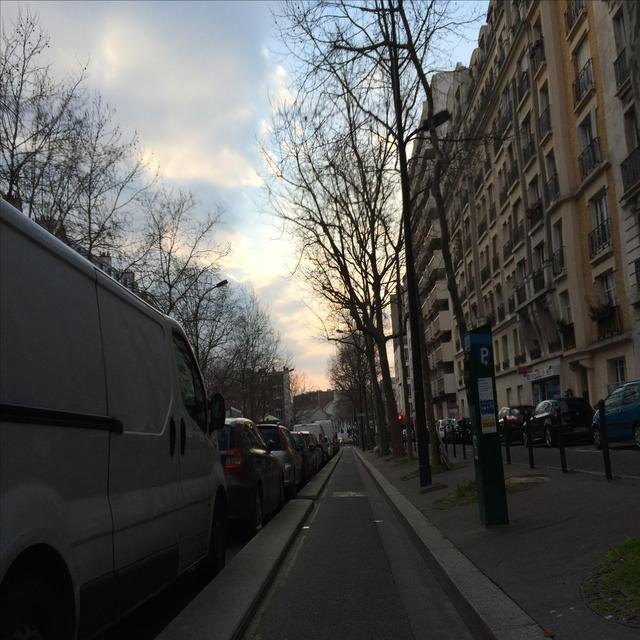Billboard: (478, 365, 553, 433), (473, 435, 477, 459)
Car: (0, 196, 285, 639), (591, 382, 639, 449)
Manhole: (399, 463, 551, 509)
